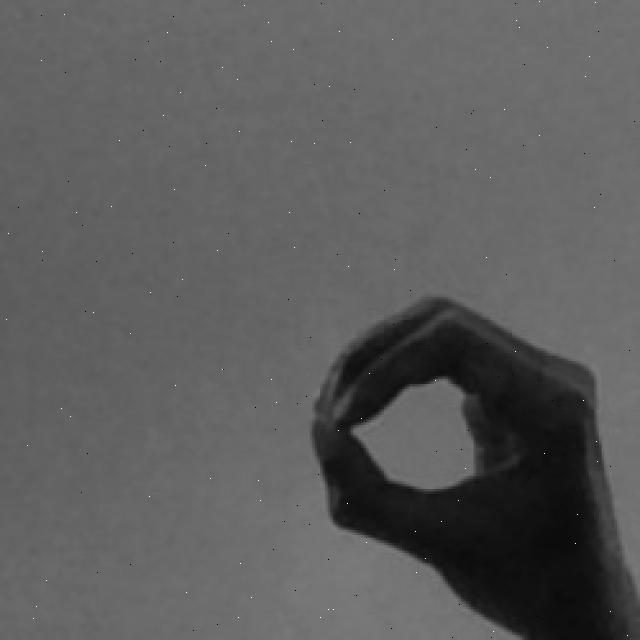O: (299, 289, 640, 639)
